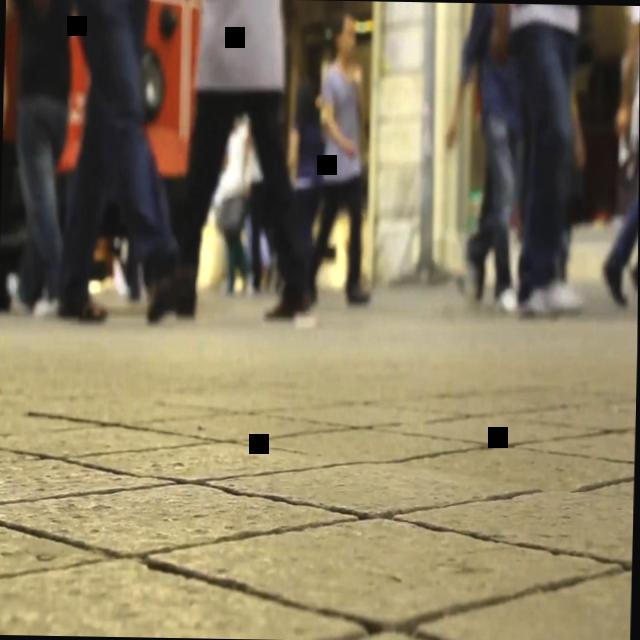NO-Mask: (337, 22, 356, 62)
